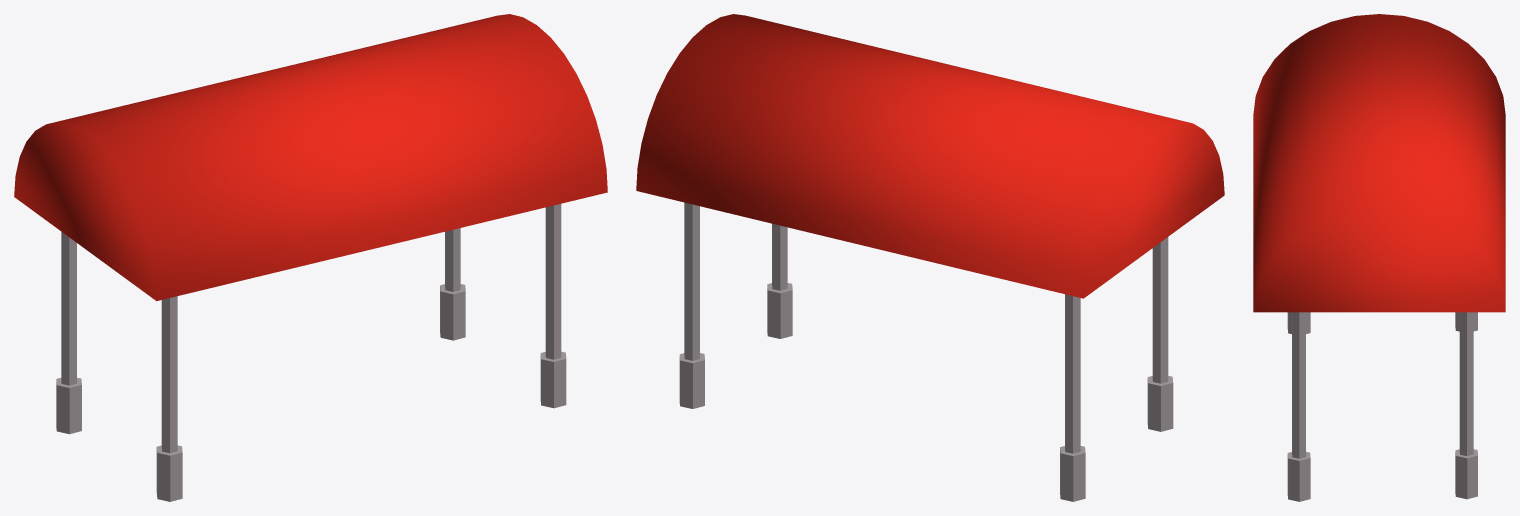
The model's file is station.fbx.
The picture shows the model from 3 angles, left to right: view 1: azimuth 30°, elevation 25°; view 2: azimuth 150°, elevation 25°; view 3: azimuth 270°, elevation 25°; orthographic projection. The views are drawn at different scales.
Parts seen in each view (by area): view 1: Cylinder, SignBoard_08_Cylinder.001, SignBoard_08_Cylinder.032; view 2: Cylinder, SignBoard_08_Cylinder.001, SignBoard_08_Cylinder.032; view 3: Cylinder, SignBoard_08_Cylinder.032, SignBoard_08_Cylinder.001.
Boxes of the visible parts, x1,y1,x2,y2 form: Cylinder: [14, 14, 607, 301]; SignBoard_08_Cylinder.001: [56, 232, 182, 501]; SignBoard_08_Cylinder.032: [440, 204, 566, 408]; Cylinder: [636, 14, 1224, 298]; SignBoard_08_Cylinder.001: [1060, 237, 1173, 501]; SignBoard_08_Cylinder.032: [679, 202, 792, 408]; Cylinder: [1253, 14, 1505, 312]; SignBoard_08_Cylinder.032: [1287, 312, 1477, 501]; SignBoard_08_Cylinder.001: [1287, 312, 1477, 333].
Bounding box in the file's own units: 1971 × 1410 × 1077.
